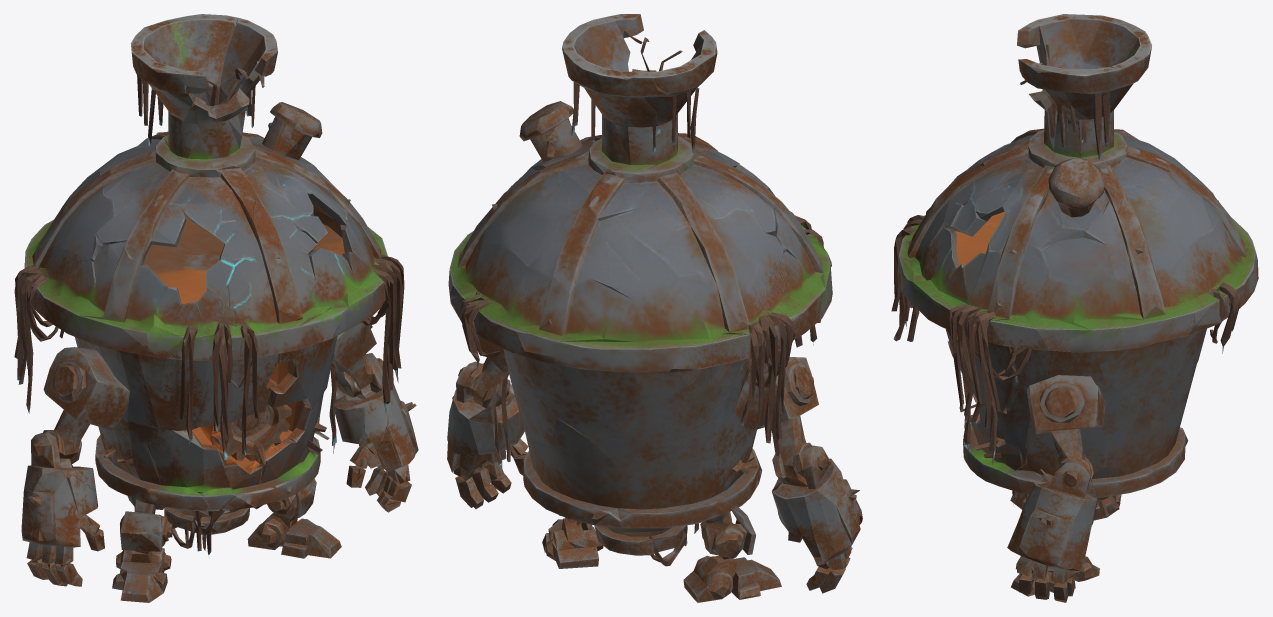
File: bot-farm-wastes.glb
3 renders of one model, left to right at view 1: azimuth 30°, elevation 25°; view 2: azimuth 150°, elevation 25°; view 3: azimuth 270°, elevation 25°, orthographic. The views are drawn at different scales.
Size of the model in its own units: 1.51 by 1.9 by 1.27.
1 material, 1 textured.
